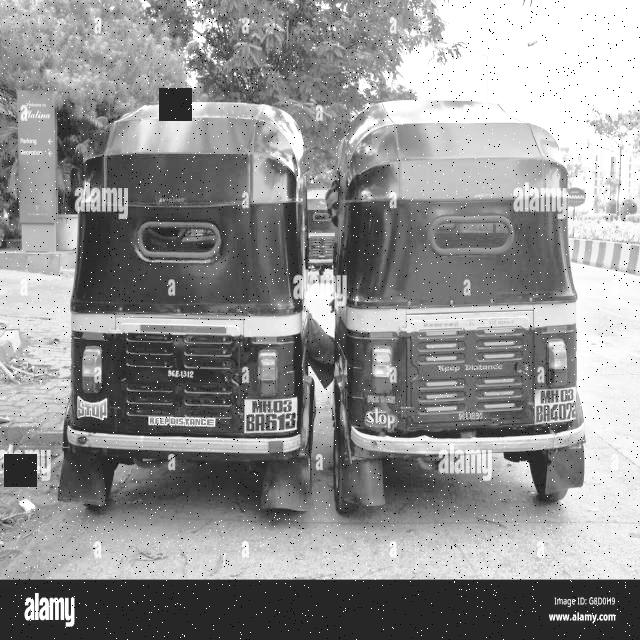Auto-Rickshaw: (318, 94, 602, 542), (80, 101, 326, 545)
